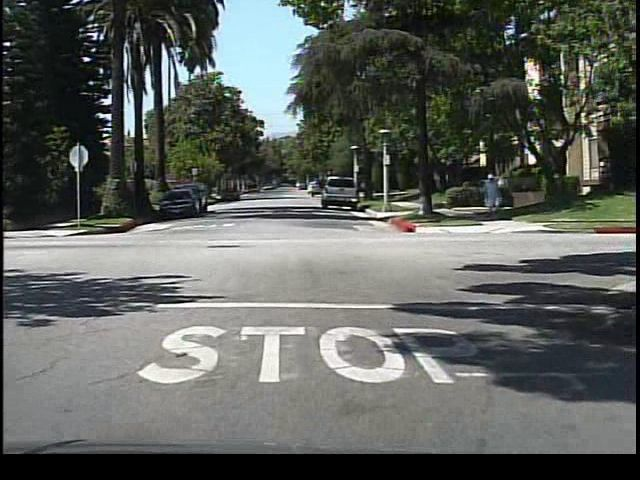person: (481, 169, 505, 221)
